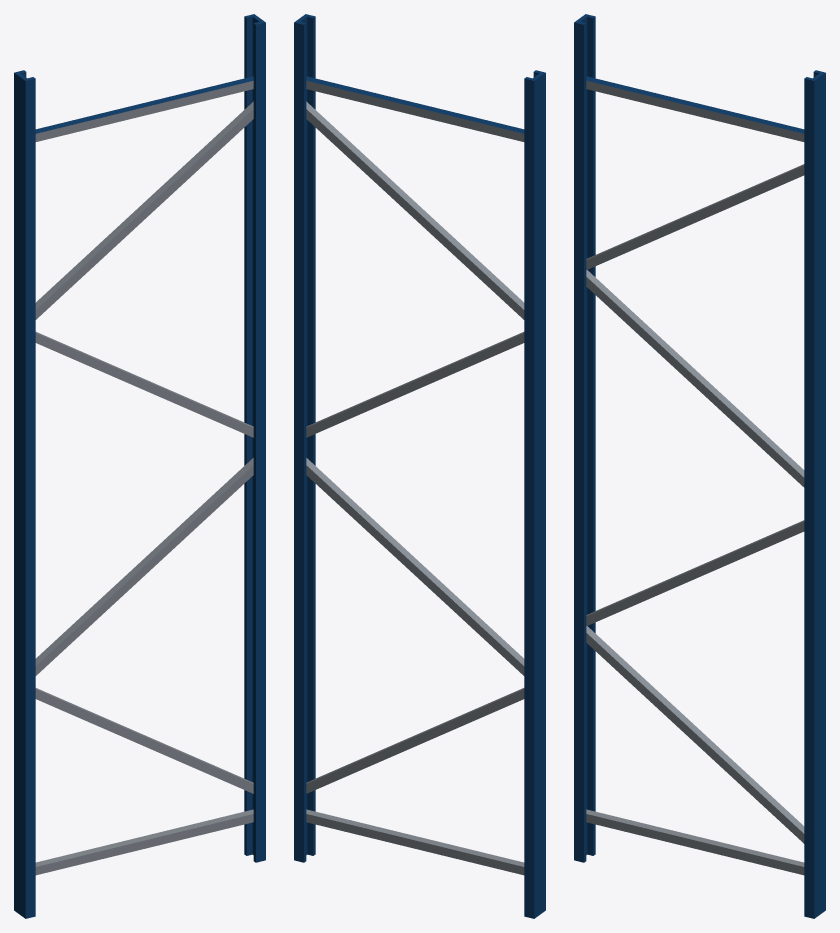
File: Regal_1.obj
The picture shows the model from 3 angles, left to right: view 1: azimuth 30°, elevation 25°; view 2: azimuth 150°, elevation 25°; view 3: azimuth 330°, elevation 25°; orthographic projection.
Visible parts, largest first — view 1: Schwerlastregal_Horizontalträger; view 2: Schwerlastregal_Horizontalträger; view 3: Schwerlastregal_Horizontalträger.
Part boxes in pixels (x1,y1,x2,y2): Schwerlastregal_Horizontalträger: (14, 14, 265, 918); Schwerlastregal_Horizontalträger: (294, 14, 545, 918); Schwerlastregal_Horizontalträger: (574, 14, 825, 918).
Bounding box in the file's own units: 1.68 × 5.6 × 0.14.
